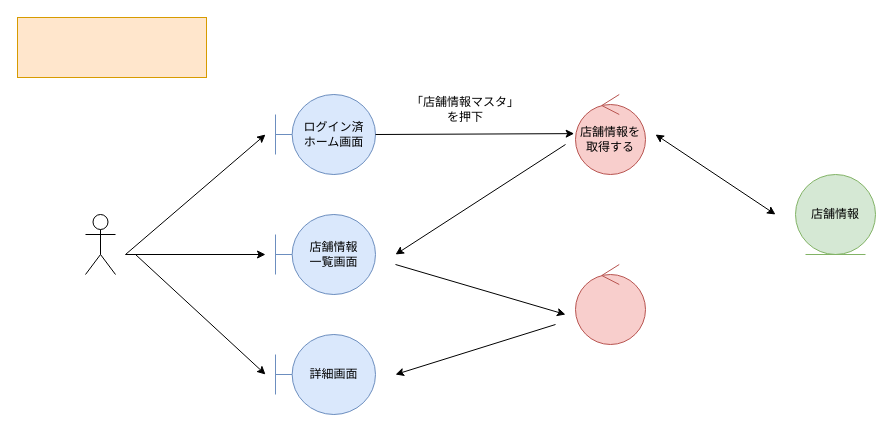
Image size: 893x432. Some labels were removed from this diagram. The centre of each missing label's shape, as x and y in pixels:
"店舗情報管理_編集" goes at point 111,47.
"管理者 正規社員" goes at point 100,244.
"表示する" goes at point 610,304.
